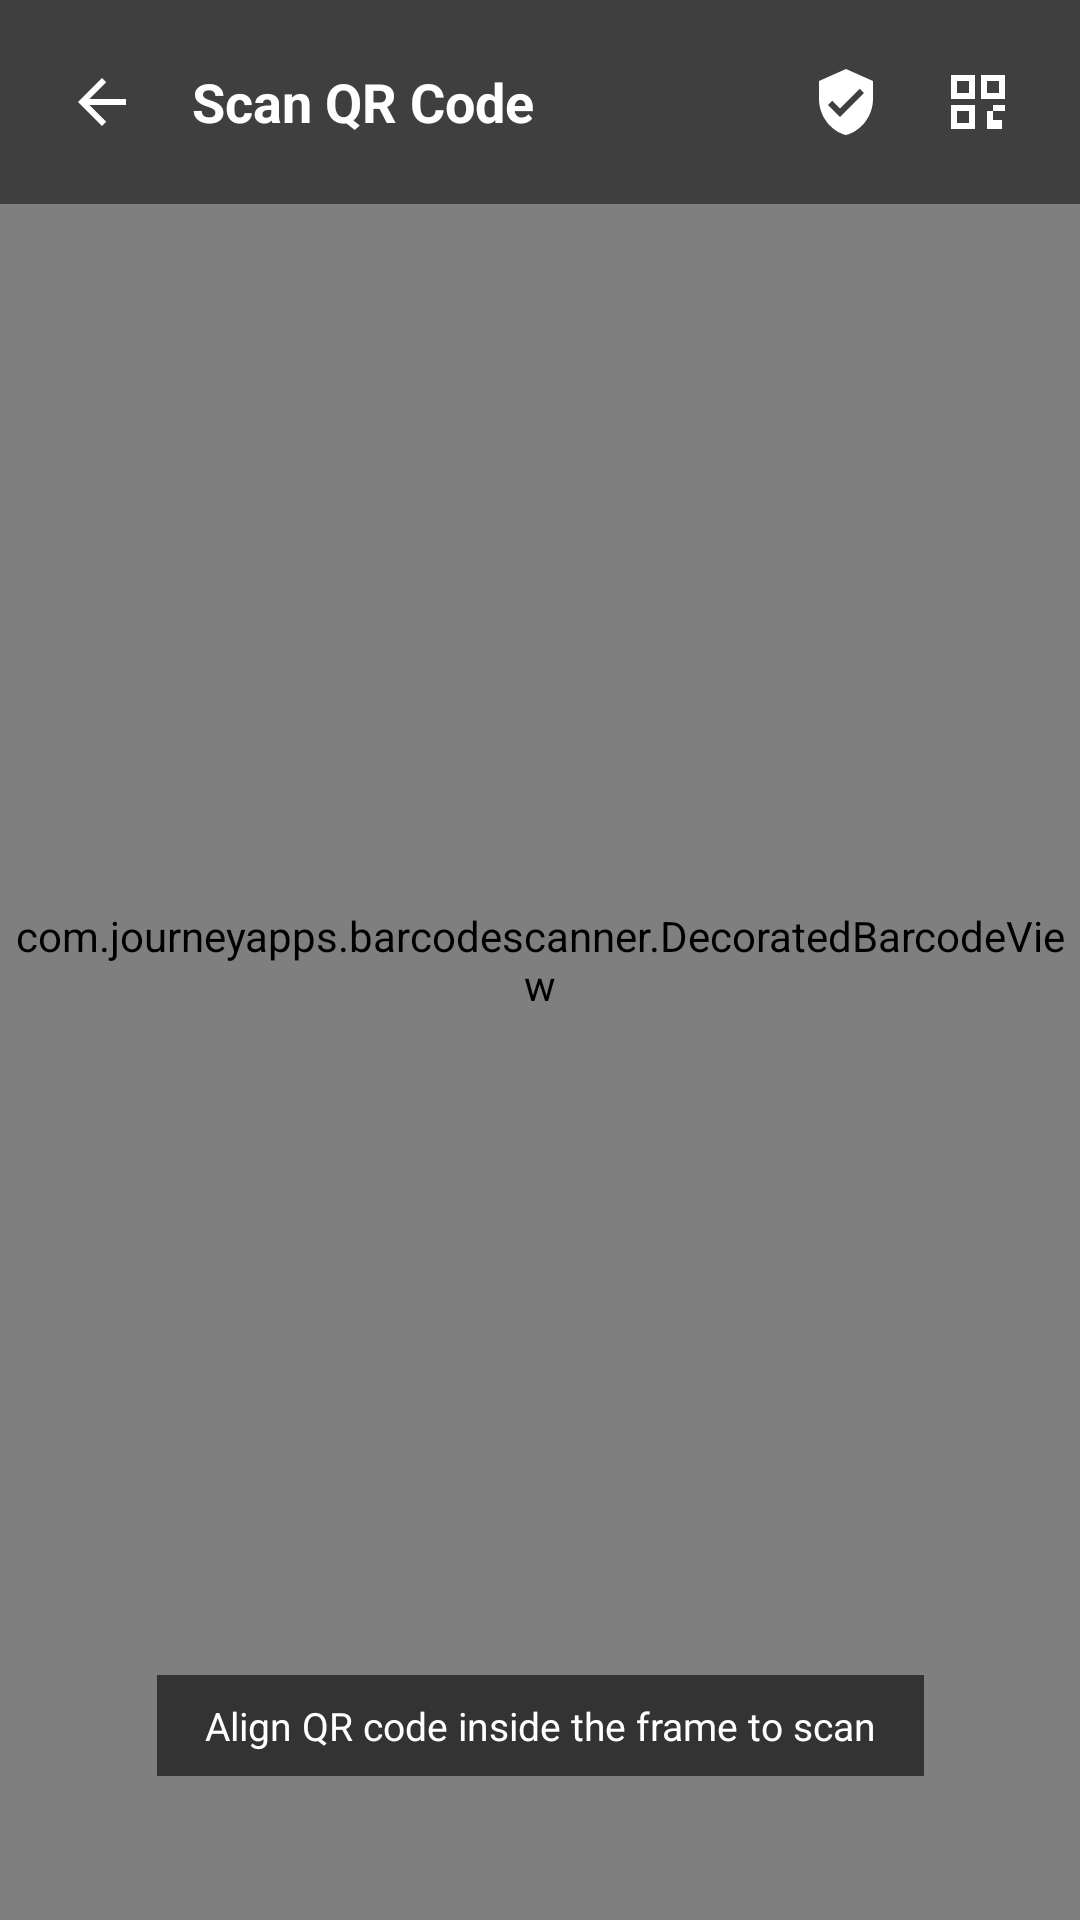

Named icons in this screenshot (1080 x 1920) and their bounding boxes, (left=x1, top=y1, right=x2, bottom=y2):
Back: (left=78, top=78, right=126, bottom=126)
